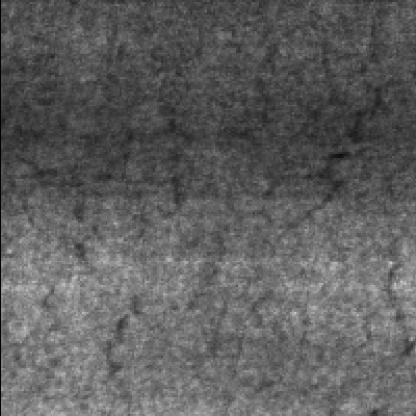crazing: (223, 6, 382, 218)
